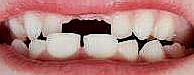Hypodontia: (61, 16, 113, 34)
